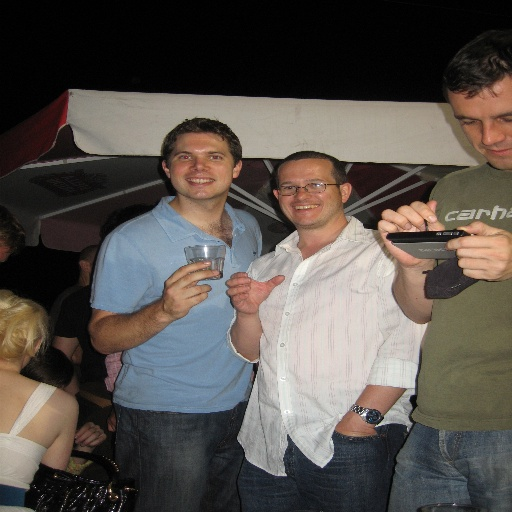hand: (446, 219, 511, 283), (161, 258, 220, 320), (384, 196, 462, 238), (223, 270, 287, 316), (331, 416, 380, 438), (74, 422, 111, 449)
